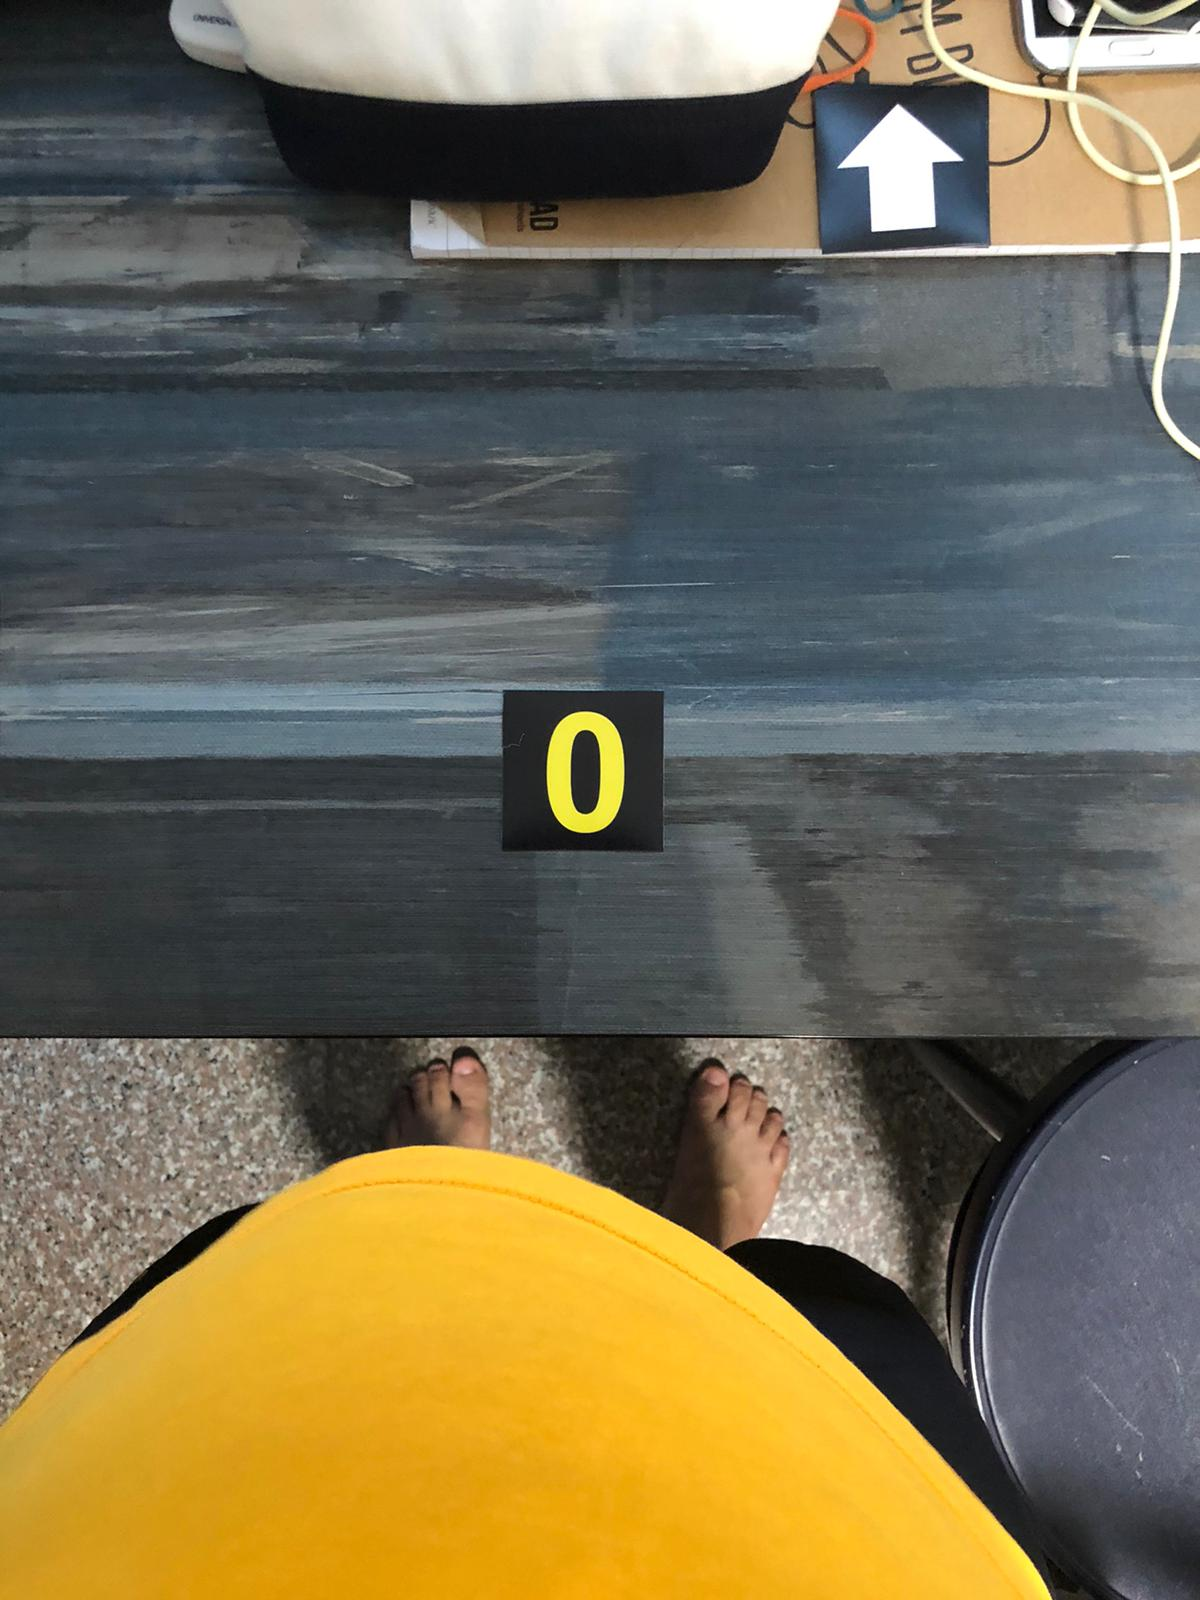Number 0: (508, 702, 663, 850)
